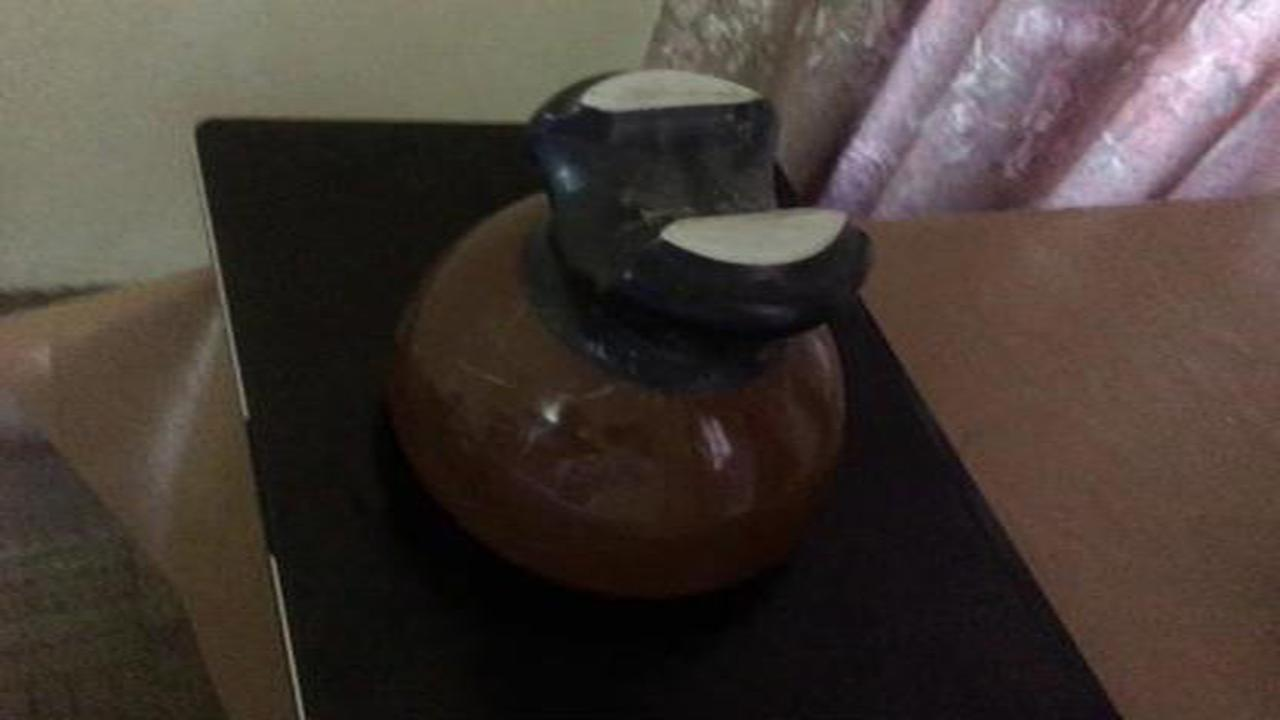insulator_pin: (370, 46, 890, 618)
